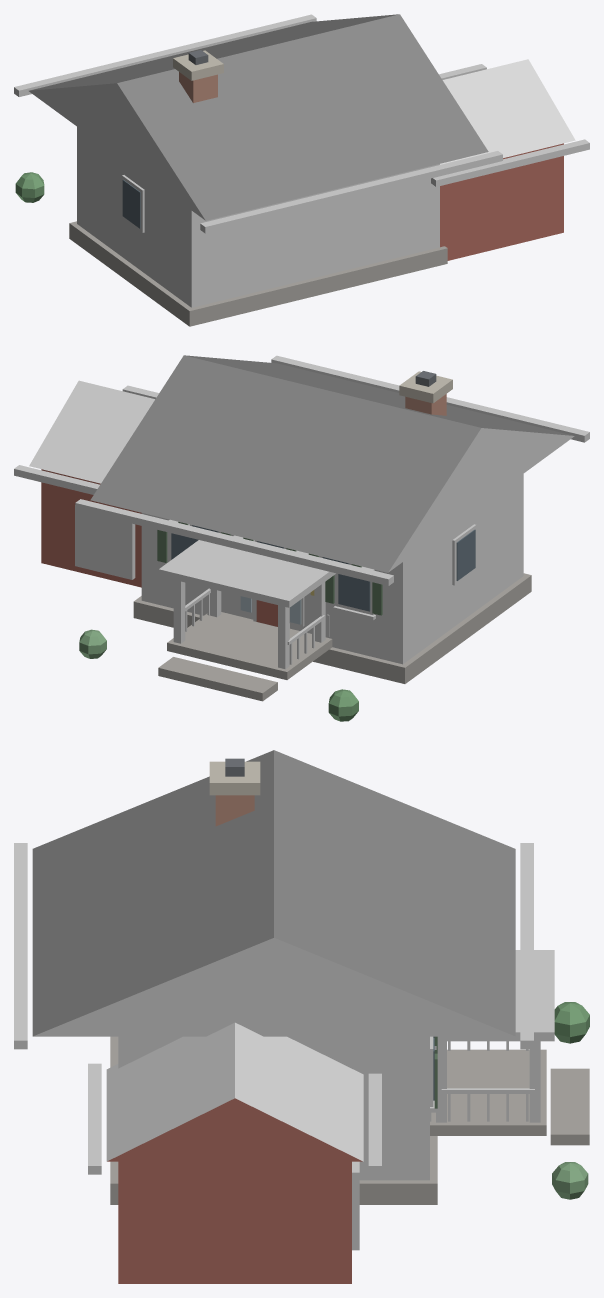
File: farmhouse_country.glb
The picture shows the model from 3 angles, top to bottom: view 1: azimuth 30°, elevation 25°; view 2: azimuth 150°, elevation 25°; view 3: azimuth 270°, elevation 25°; orthographic projection. The views are drawn at different scales.
Visible parts, largest first — view 1: Mesh; view 2: Mesh; view 3: Mesh.
Part boxes in pixels (bbox=[...]): Mesh: bbox=[14, 14, 589, 326]; Mesh: bbox=[14, 355, 589, 721]; Mesh: bbox=[14, 750, 589, 1283].
Size of the model in its own units: 16.6 by 8.75 by 14.78.
